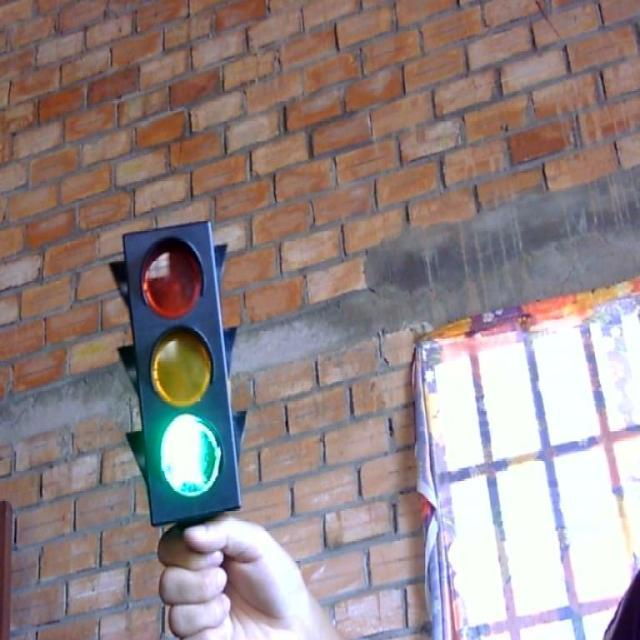green light: (152, 403, 228, 506)
